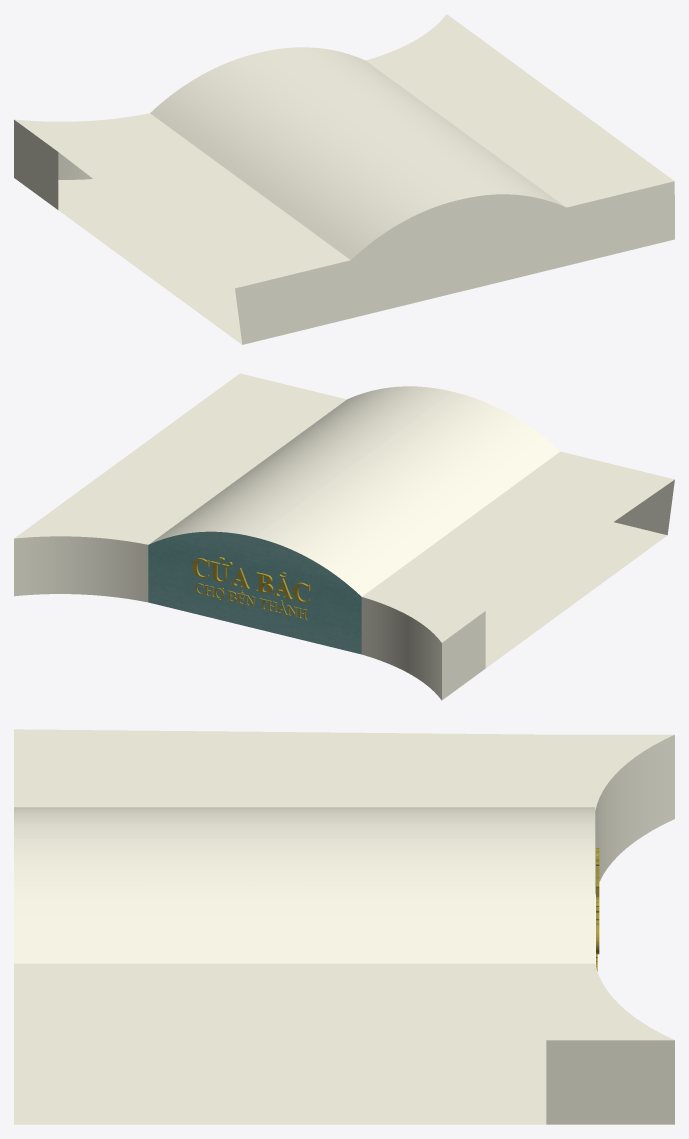
Rendered from vomVienCuaBac.glb.
The picture shows the model from 3 angles, top to bottom: view 1: azimuth 30°, elevation 25°; view 2: azimuth 150°, elevation 25°; view 3: azimuth 270°, elevation 25°; orthographic projection. The views are drawn at different scales.
Parts seen in each view (by area): view 1: _C-Component#9 (Loose Mesh).002, _C-Component#9 (Loose Mesh).001; view 2: _C-Component#9 (Loose Mesh).002, _C-Component#9 (Loose Mesh).001, C-CỬA BẮC, C-CHỢ BẾN THÀNH#1; view 3: _C-Component#9 (Loose Mesh).001, _C-Component#9 (Loose Mesh).002.
Part boxes in pixels (box(x1,y1,x2,y2)): _C-Component#9 (Loose Mesh).002: box(14, 53, 458, 344); _C-Component#9 (Loose Mesh).001: box(259, 14, 674, 292); _C-Component#9 (Loose Mesh).002: box(254, 392, 674, 700); _C-Component#9 (Loose Mesh).001: box(14, 373, 452, 628); C-CỬA BẮC: box(192, 557, 310, 602); C-CHỢ BẾN THÀNH#1: box(195, 583, 307, 619); _C-Component#9 (Loose Mesh).001: box(14, 838, 674, 1124); _C-Component#9 (Loose Mesh).002: box(14, 729, 674, 894).
Bounding box in the file's own units: 8.29 × 1.66 × 7.45.
5 materials, 3 textured.
